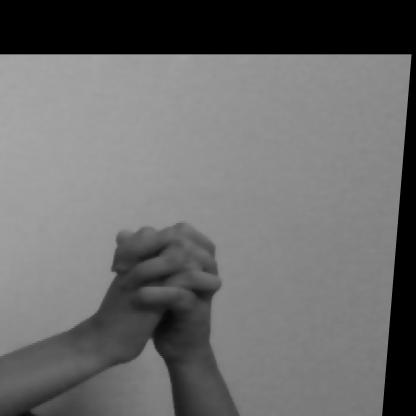prayer: (85, 186, 279, 402)
